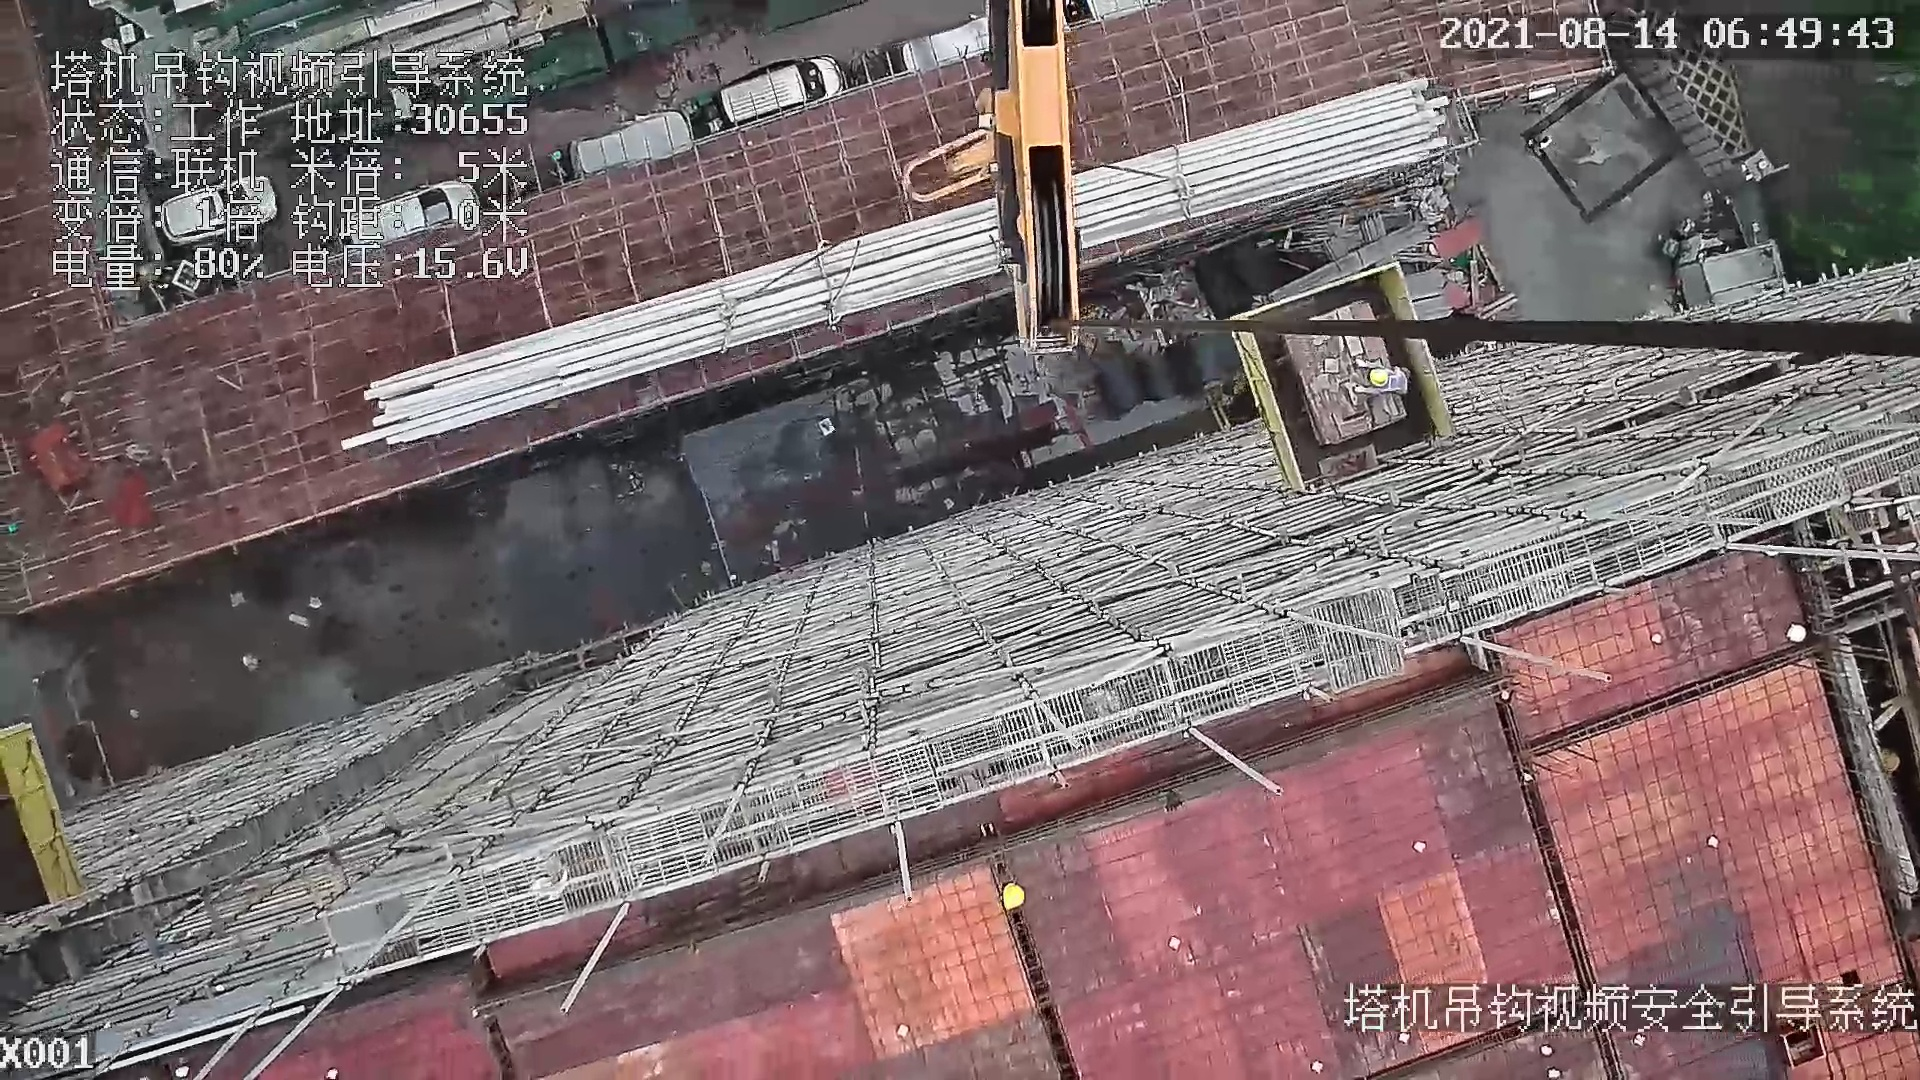helmet: (993, 883, 1040, 917), (1365, 367, 1401, 398)
hook: (905, 1, 1083, 363)
person: (1355, 353, 1413, 400)
